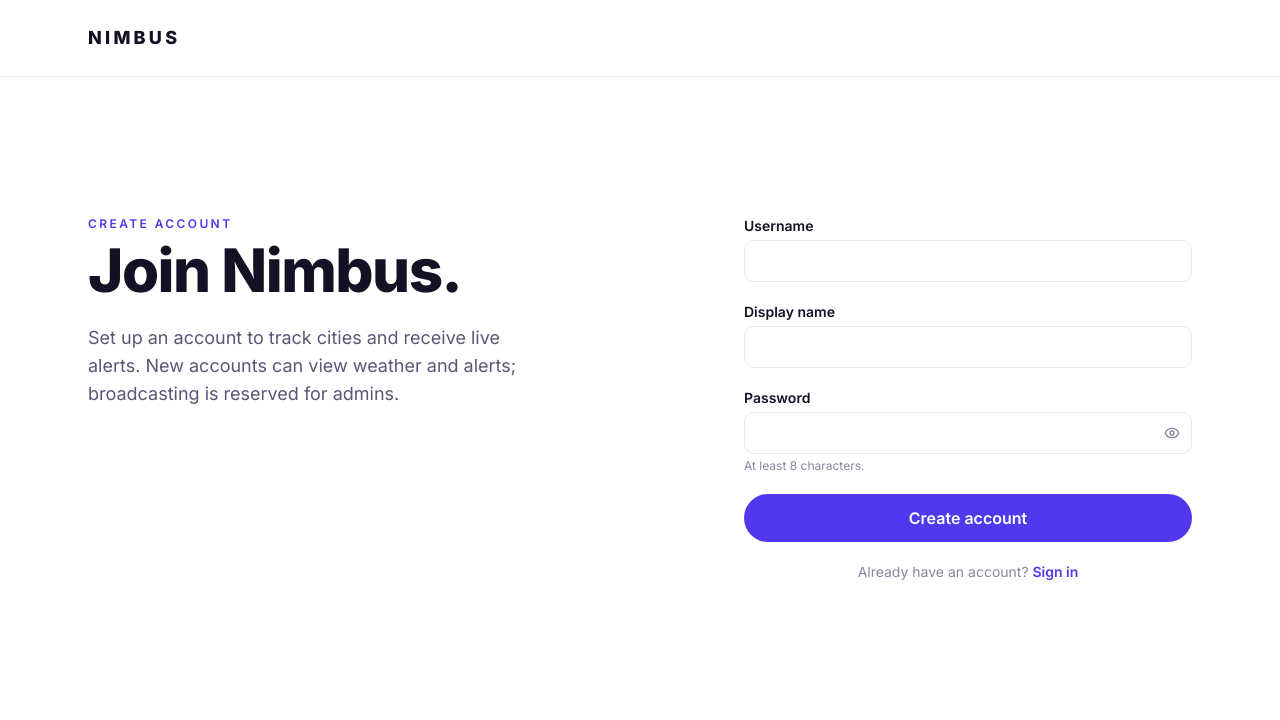
Test case: RegisterPage › shows "already taken" on a 409
The width and height of the screenshot is (1280, 720).
Type "newbie" into the field labelled "Username" at [968, 260], box [744,240,1192,282]
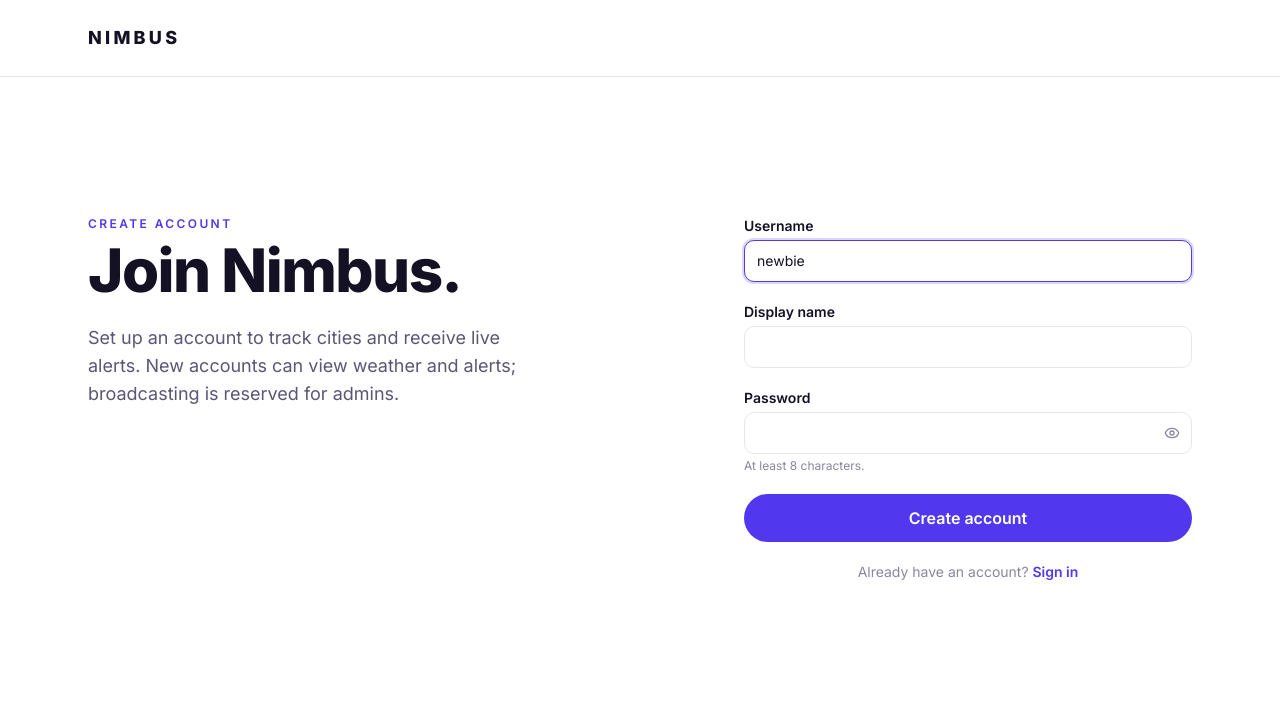
Type "New Bie" into the field labelled "Display name" at [968, 346], box [744,326,1192,368]
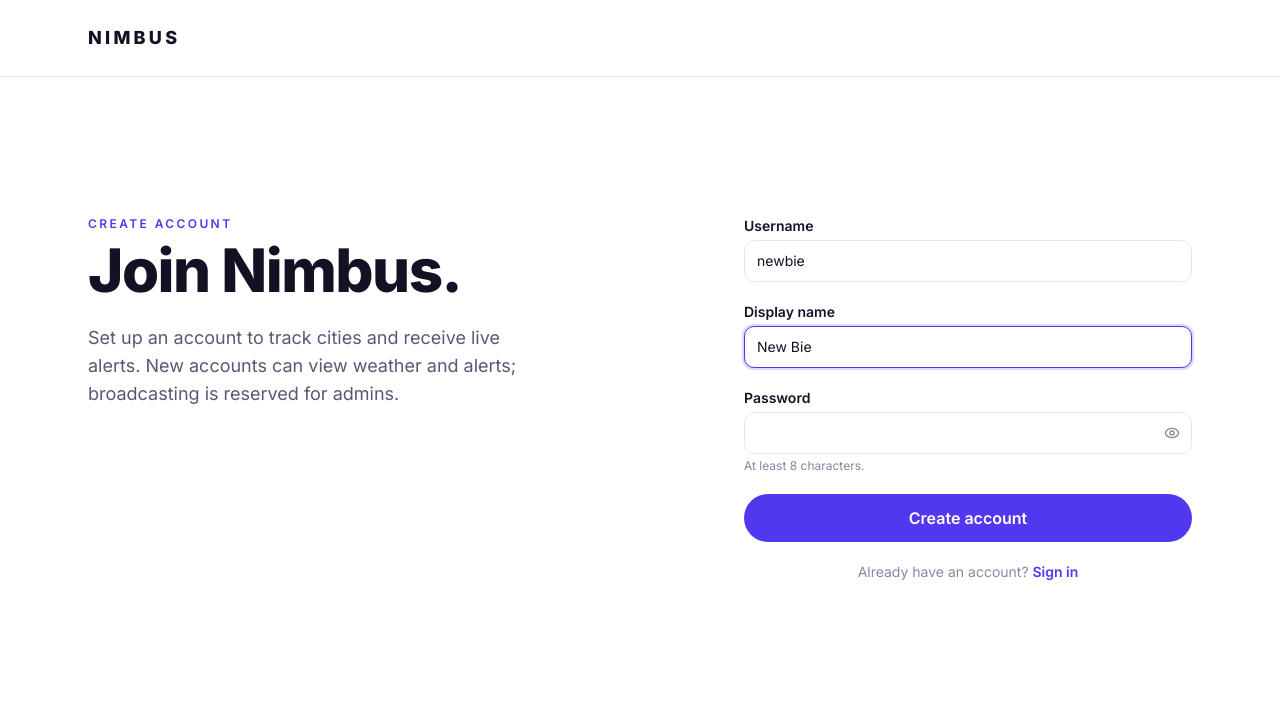
Type "password123" into the password field labelled "Password" at [968, 432], box [744,412,1192,454]
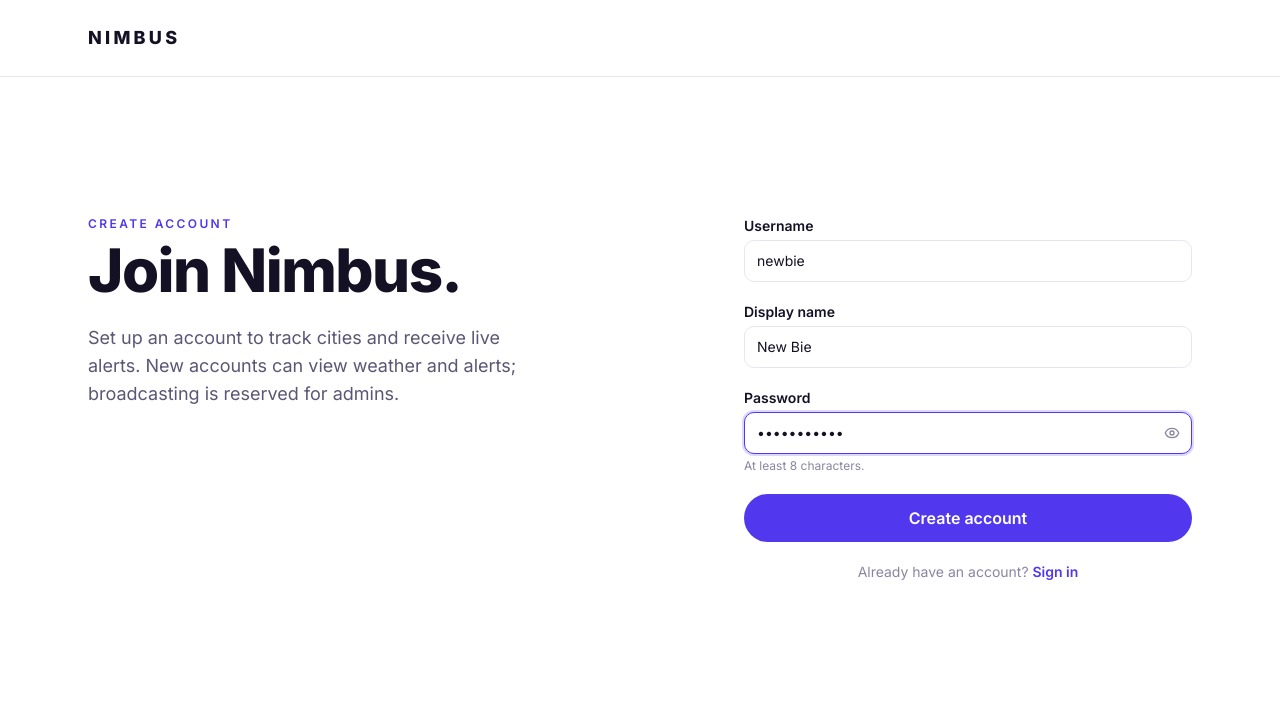
Click the button "Create account" at [968, 518], box [744,494,1192,542]
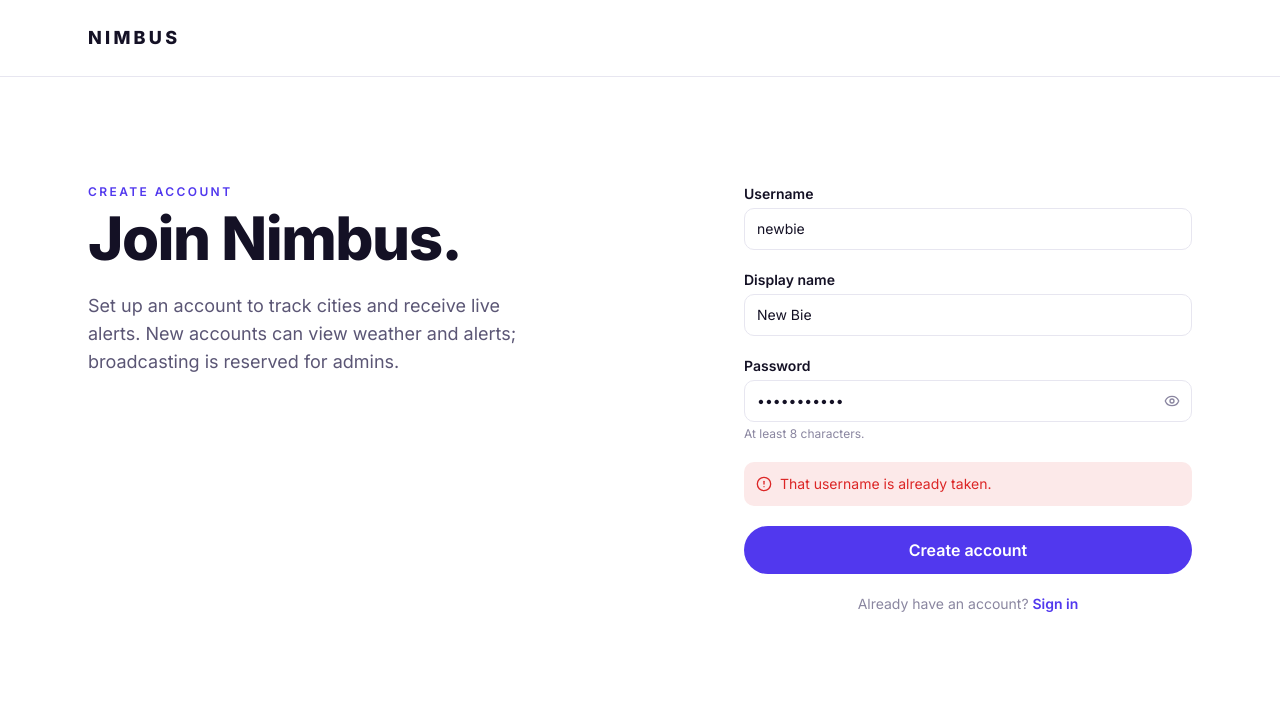
Expected: the message shows "already taken", [780,474,992,492]
